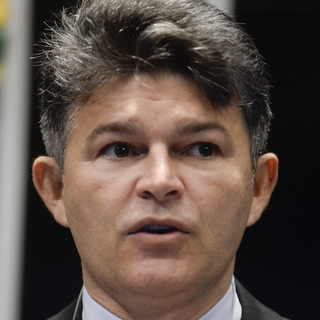eye: (93, 138, 144, 163), (175, 138, 225, 163)
